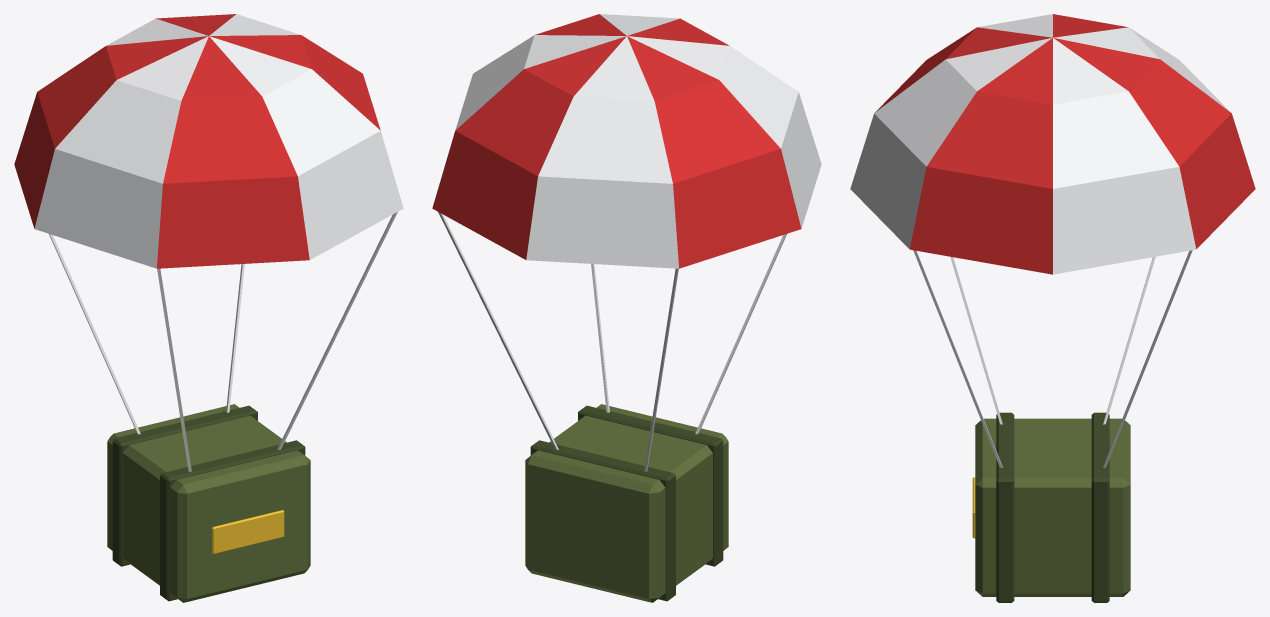
The model's file is SupplyDrop.fbx.
3 views of the same model, side by side, from view 1: azimuth 30°, elevation 25°; view 2: azimuth 150°, elevation 25°; view 3: azimuth 270°, elevation 25° (orthographic).
Visible parts, largest first — view 1: SupplyDrop; view 2: SupplyDrop; view 3: SupplyDrop.
Boxes of the visible parts, x1=… form: SupplyDrop: x1=14, y1=14, x2=403, y2=602; SupplyDrop: x1=432, y1=14, x2=821, y2=602; SupplyDrop: x1=850, y1=14, x2=1255, y2=602.
Size of the model in its own units: 6.8 by 9.85 by 6.8.
1 material, 1 textured.
